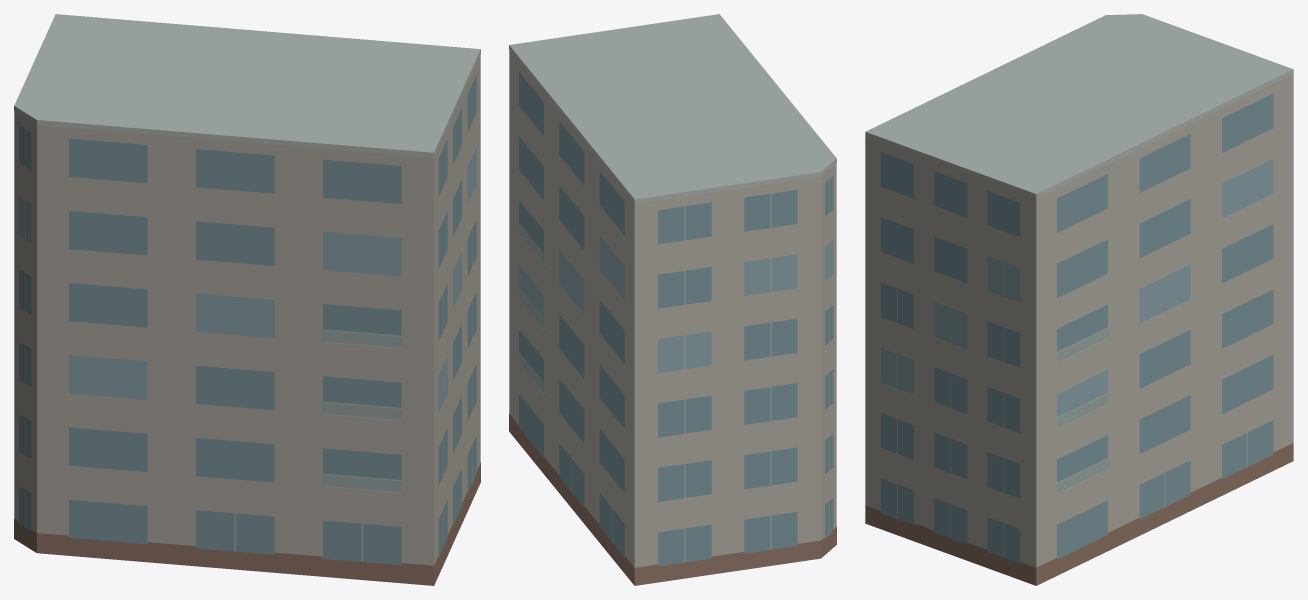
The model's file is survey-upis-32980037.glb.
3 renders of one model, left to right at view 1: azimuth 30°, elevation 25°; view 2: azimuth 150°, elevation 25°; view 3: azimuth 270°, elevation 25°, orthographic. The views are drawn at different scales.
Parts seen in each view (by area): view 1: survey-upis-32980037.tmp; view 2: survey-upis-32980037.tmp; view 3: survey-upis-32980037.tmp.
Boxes of the visible parts, x1,y1,x2,y2 form: survey-upis-32980037.tmp: (14,14,480,585); survey-upis-32980037.tmp: (509,14,836,585); survey-upis-32980037.tmp: (865,14,1293,585).
Bounding box in the file's own units: 20.02 × 20.3 × 20.12.
